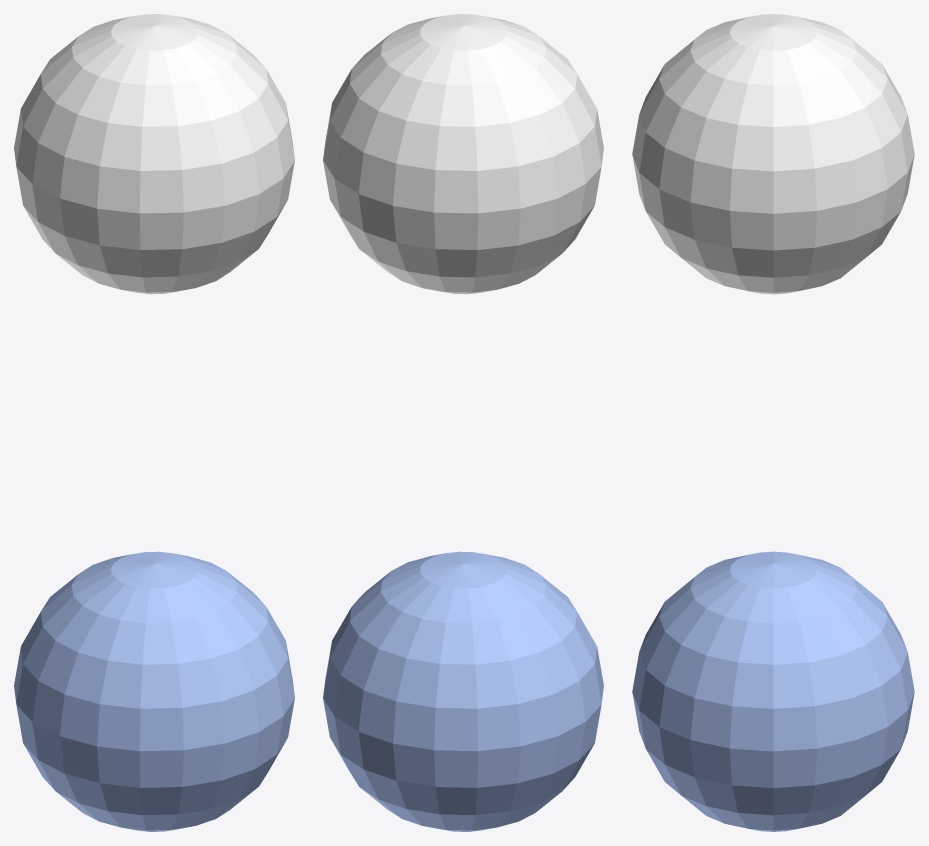
The model's file is EYE_P_LINK_mesh.obj.
The picture shows the model from 3 angles, left to right: view 1: azimuth 30°, elevation 25°; view 2: azimuth 150°, elevation 25°; view 3: azimuth 270°, elevation 25°; orthographic projection.
Visible parts, largest first — view 1: EYE_P_LINK, EYE_P_LINK.001; view 2: EYE_P_LINK, EYE_P_LINK.001; view 3: EYE_P_LINK, EYE_P_LINK.001.
Boxes of the visible parts, bbox=[...] form: EYE_P_LINK: bbox=[14, 14, 294, 294]; EYE_P_LINK.001: bbox=[14, 551, 294, 831]; EYE_P_LINK: bbox=[323, 14, 603, 294]; EYE_P_LINK.001: bbox=[323, 551, 603, 831]; EYE_P_LINK: bbox=[632, 14, 914, 294]; EYE_P_LINK.001: bbox=[632, 551, 914, 831].
Size of the model in its own units: 0.03 by 0.093 by 0.03.
